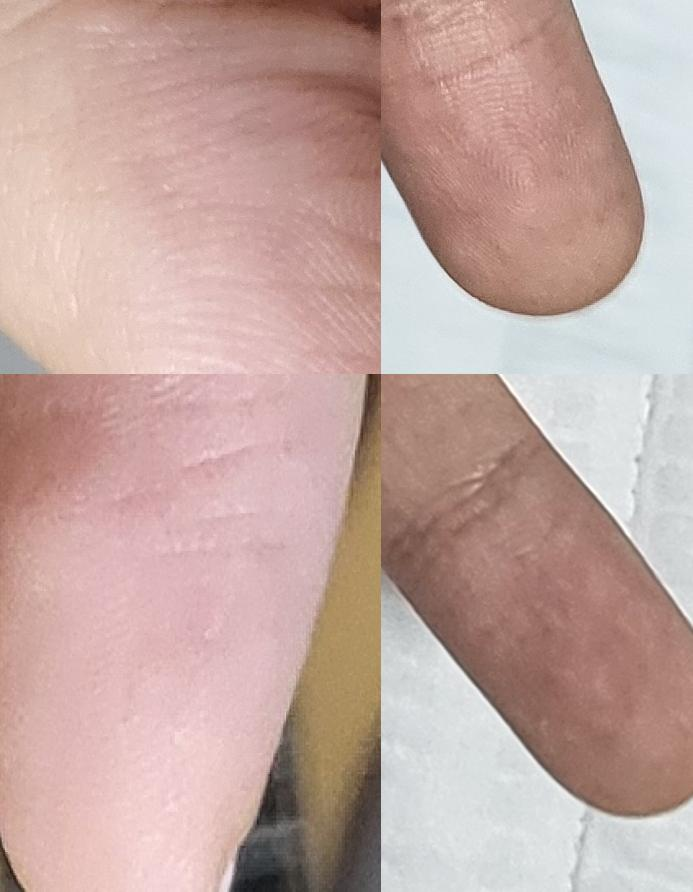Fingerprints: (0, 375, 367, 891), (7, 0, 381, 374), (401, 455, 693, 812), (381, 0, 645, 318)
